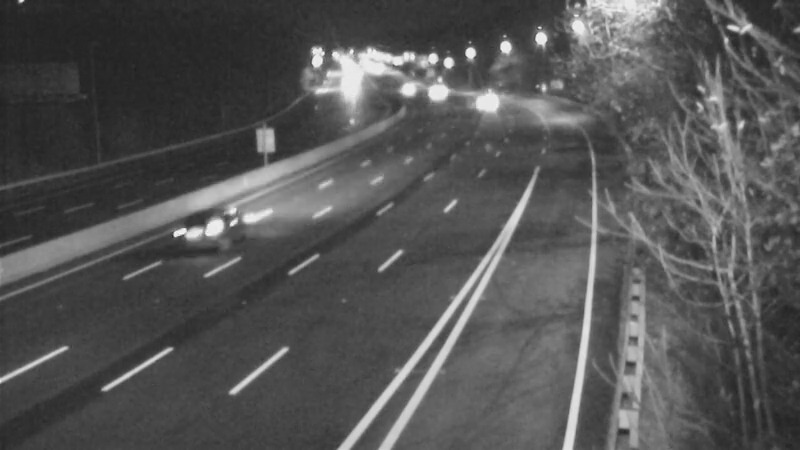vehicle: (164, 183, 244, 263), (380, 64, 430, 114), (417, 69, 467, 119), (461, 75, 511, 125), (321, 61, 371, 111)
